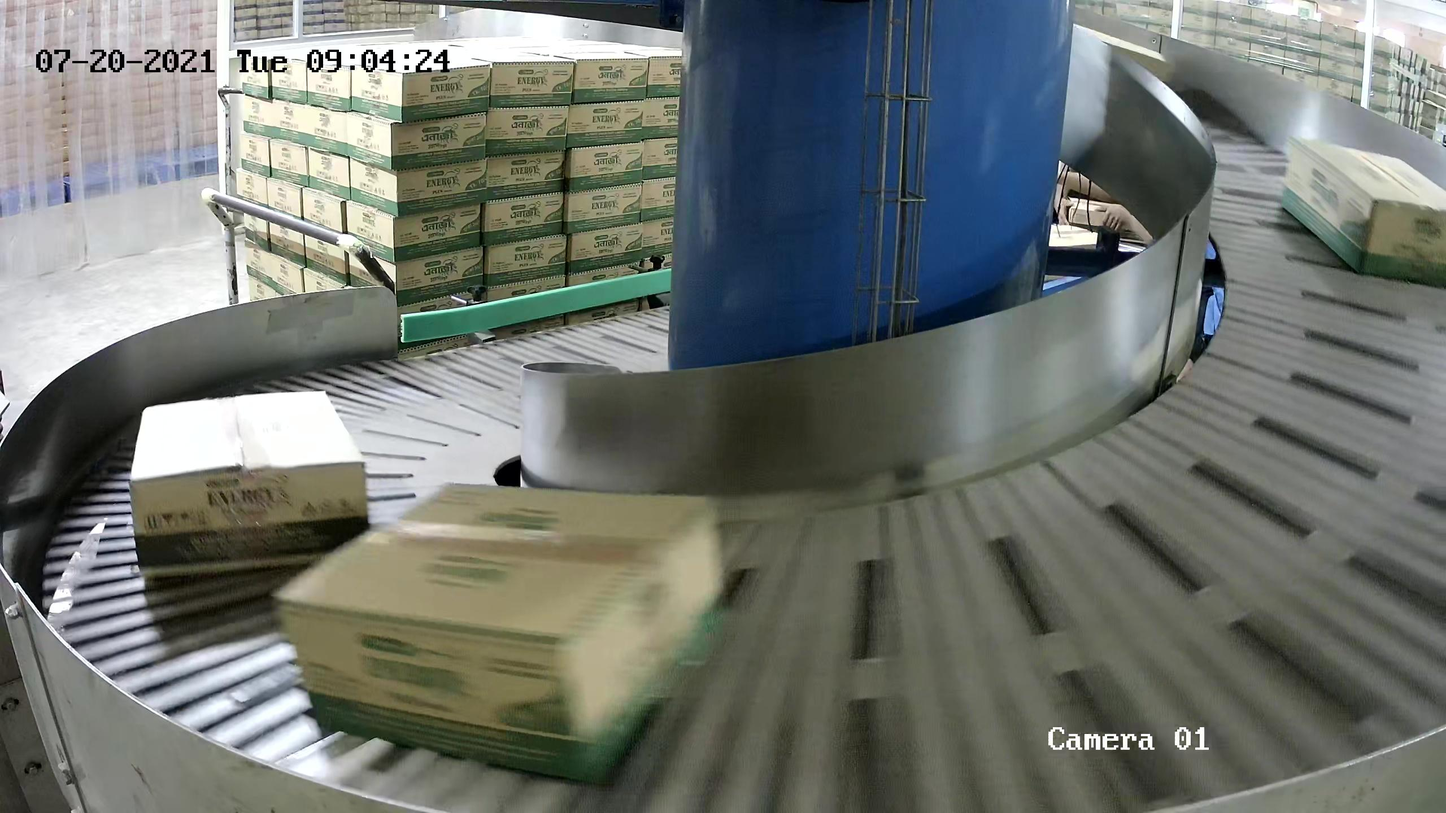Box: (273, 478, 734, 790), (126, 385, 384, 581), (1279, 132, 1446, 285)
